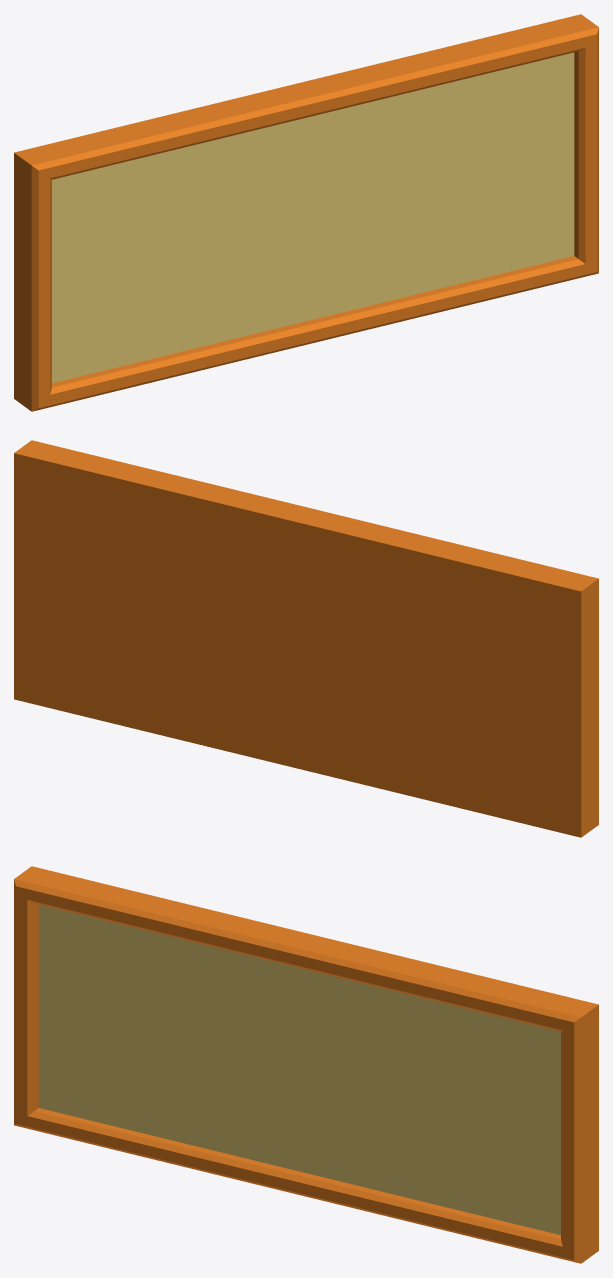
File: Label.fbx
3 renders of one model, top to bottom at view 1: azimuth 30°, elevation 25°; view 2: azimuth 150°, elevation 25°; view 3: azimuth 330°, elevation 25°, orthographic.
Visible parts, largest first — view 1: Label; view 2: Label; view 3: Label.
Part boxes in pixels (x1,y1,x2,y2): Label: (14,14,598,411); Label: (14,440,598,837); Label: (14,866,598,1263).
Bounding box in the file's own units: 28.56 × 11.85 × 1.76.
